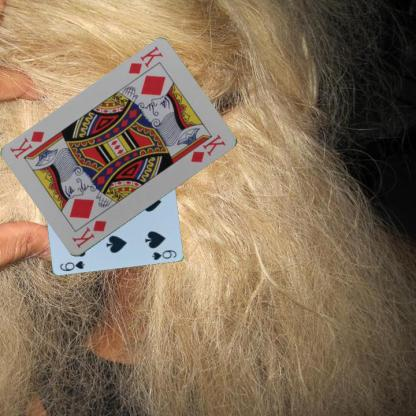6s: (58, 258, 86, 272)
Kd: (125, 43, 164, 76), (69, 218, 108, 249)
